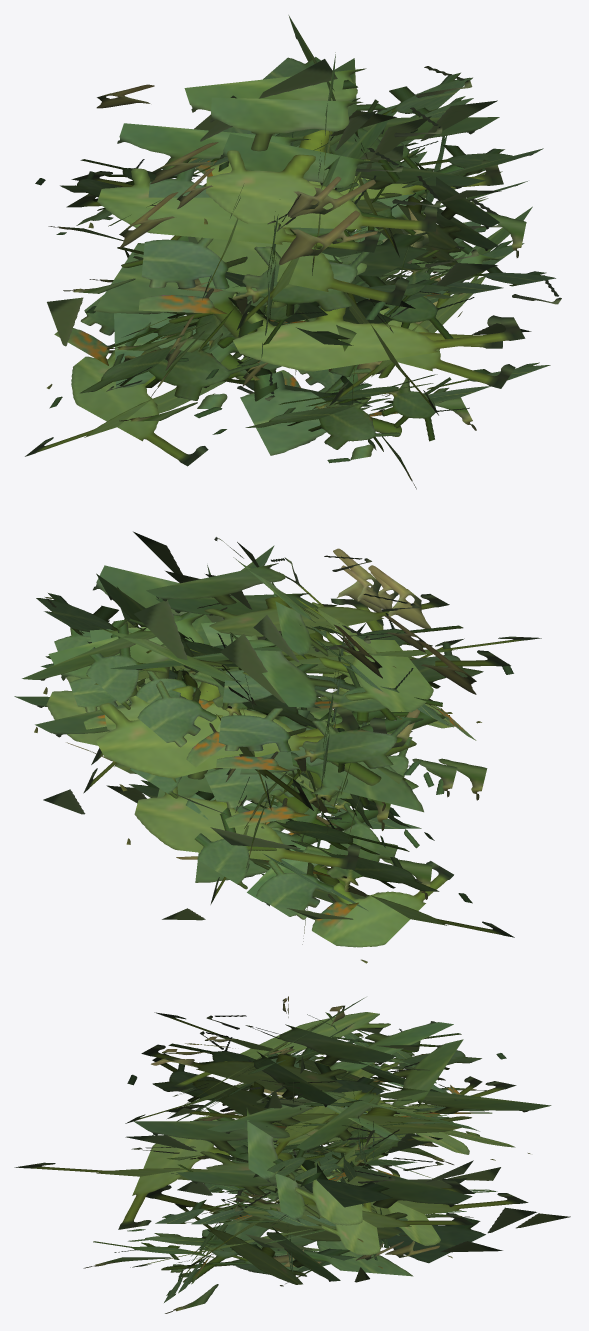
Rendered from hosta-clump-lod0.glb.
3 renders of one model, top to bottom at view 1: azimuth 30°, elevation 25°; view 2: azimuth 150°, elevation 25°; view 3: azimuth 270°, elevation 25°, orthographic. The views are drawn at different scales.
Parts seen in each view (by area): view 1: foliage; view 2: foliage; view 3: foliage.
Boxes of the visible parts, x1=… form: foliage: x1=25, y1=15, x2=561, y2=489; foliage: x1=14, y1=531, x2=541, y2=963; foliage: x1=14, y1=996, x2=570, y2=1313.
Bounding box in the file's own units: 1.34 × 0.7394 × 1.43.
1 material, 1 textured.
